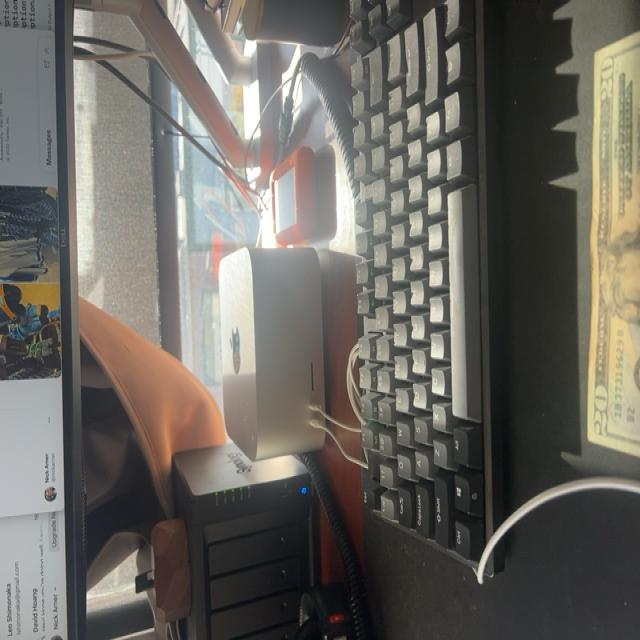twenty: (588, 29, 640, 456)
